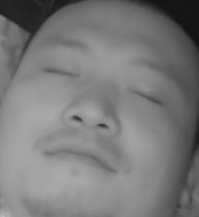blink: (128, 83, 163, 108), (42, 62, 79, 83)
mouth: (45, 136, 114, 178)
